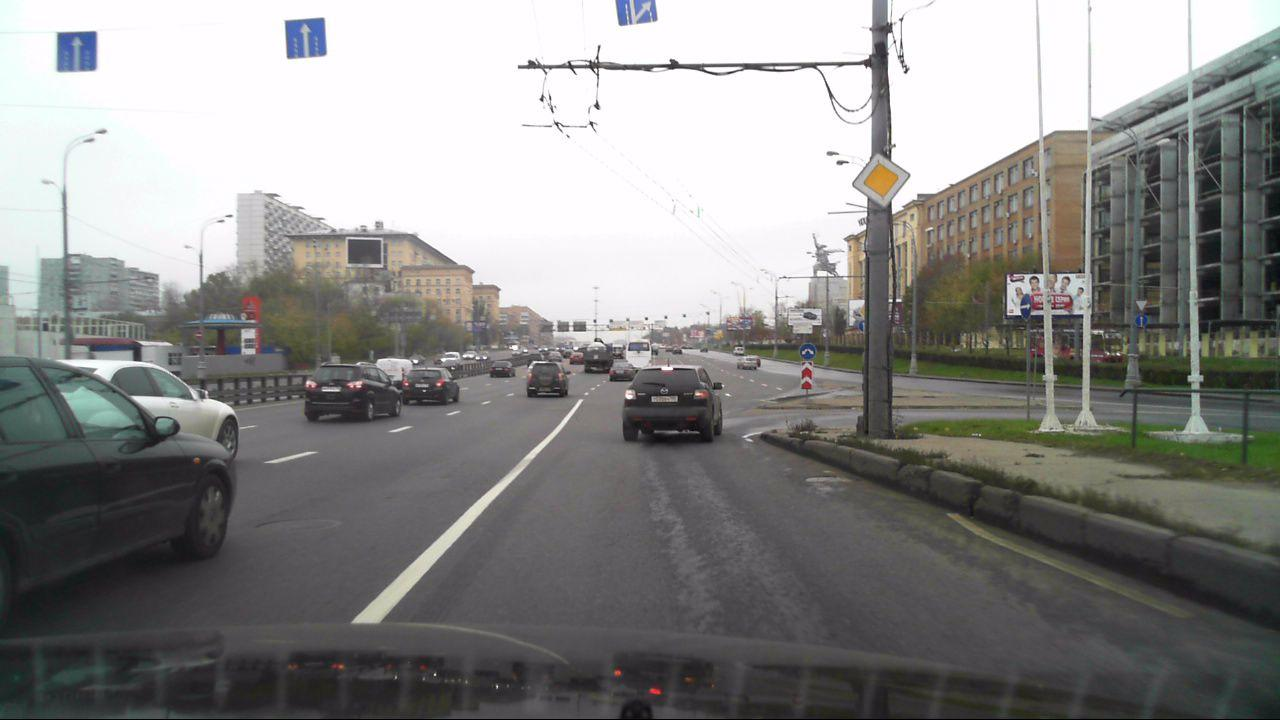pothole: (802, 475, 856, 482)
road_sign: (852, 152, 911, 208), (284, 16, 328, 60), (57, 31, 97, 72), (615, 0, 658, 26), (800, 361, 813, 390), (800, 343, 816, 360), (1134, 315, 1148, 328), (1135, 300, 1149, 312)
